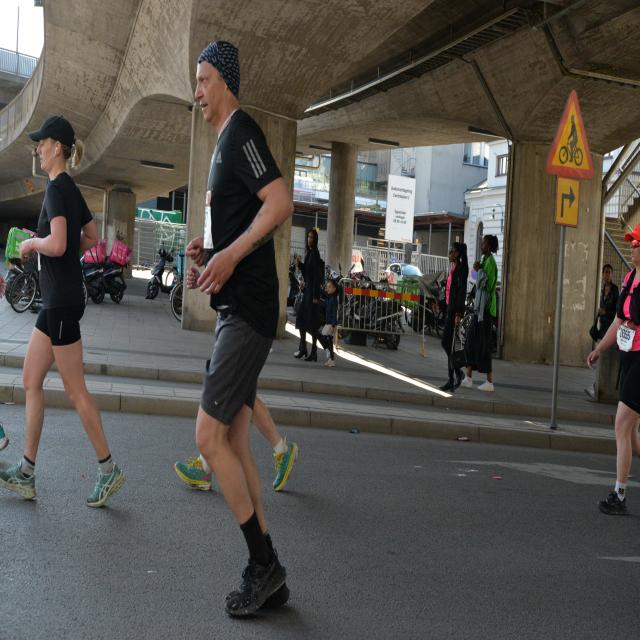runner-detect: (162, 33, 318, 625), (3, 98, 133, 535)
